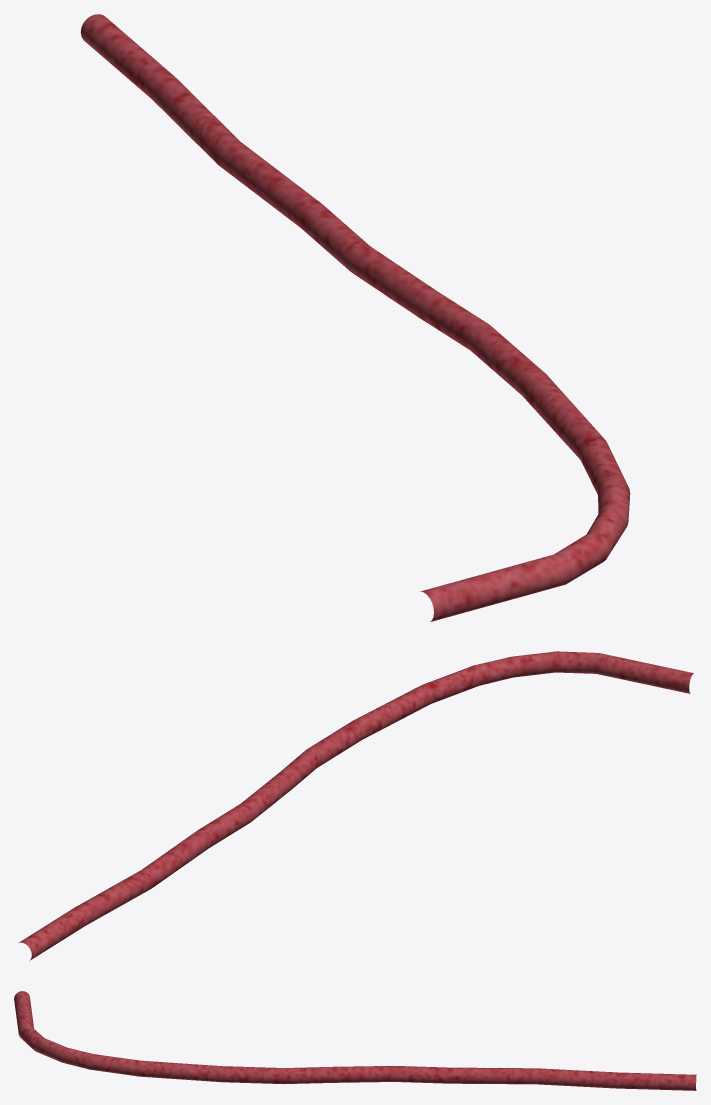
The model's file is Ureter.glb.
3 views of the same model, one above another, from view 1: azimuth 30°, elevation 25°; view 2: azimuth 150°, elevation 25°; view 3: azimuth 270°, elevation 25° (orthographic). The views are drawn at different scales.
Parts seen in each view (by area): view 1: Ureter; view 2: Ureter; view 3: Ureter.
Boxes of the visible parts, left/top/right/bottom form: Ureter: left=80, top=14, right=630, bottom=621; Ureter: left=19, top=651, right=693, bottom=960; Ureter: left=14, top=991, right=696, bottom=1090.
Size of the model in its own units: 27.06 by 2.1 by 88.45.
Materials: 1 (1 with a texture image).
